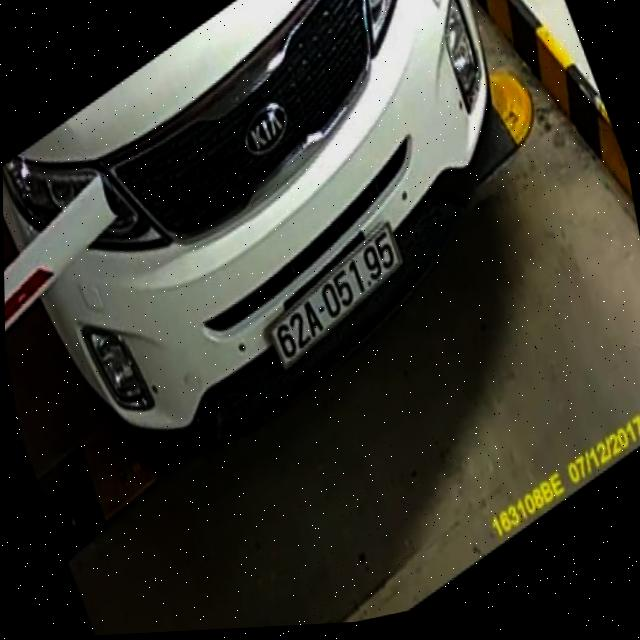car: (0, 0, 547, 490)
plate: (251, 220, 428, 371)
